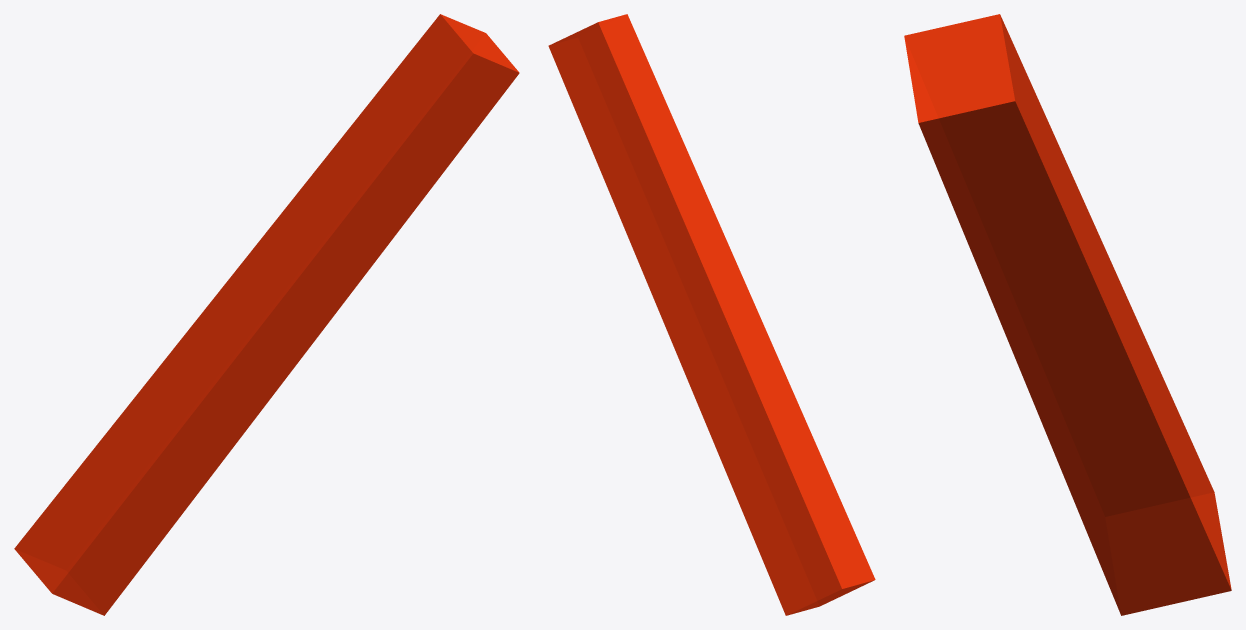
Rendered from Event_421127236_EBrechit_11.fbx.
The picture shows the model from 3 angles, left to right: view 1: azimuth 30°, elevation 25°; view 2: azimuth 150°, elevation 25°; view 3: azimuth 270°, elevation 25°; orthographic projection. The views are drawn at different scales.
Visible parts, largest first — view 1: Model; view 2: Model; view 3: Model.
Boxes of the visible parts, <box> form: Model: <box>14,14,519,615</box>; Model: <box>548,14,875,615</box>; Model: <box>904,14,1231,615</box>.
Size of the model in its own units: 0.3752 by 0.4995 by 0.1834.
